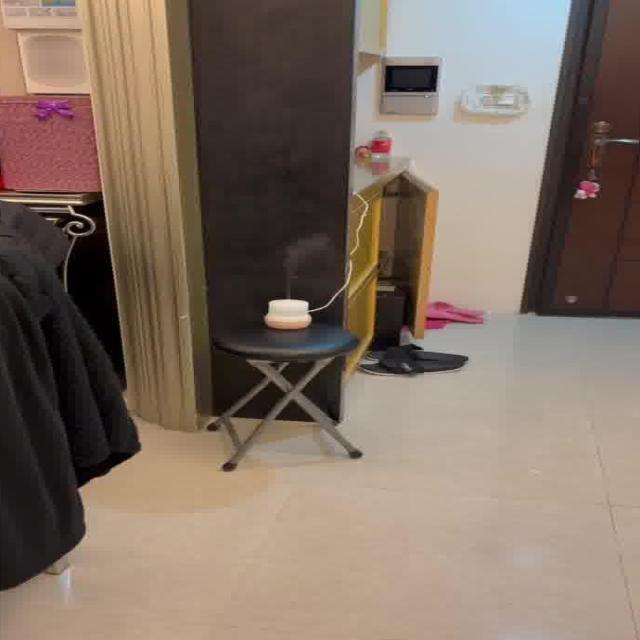fire: (272, 232, 333, 290)
